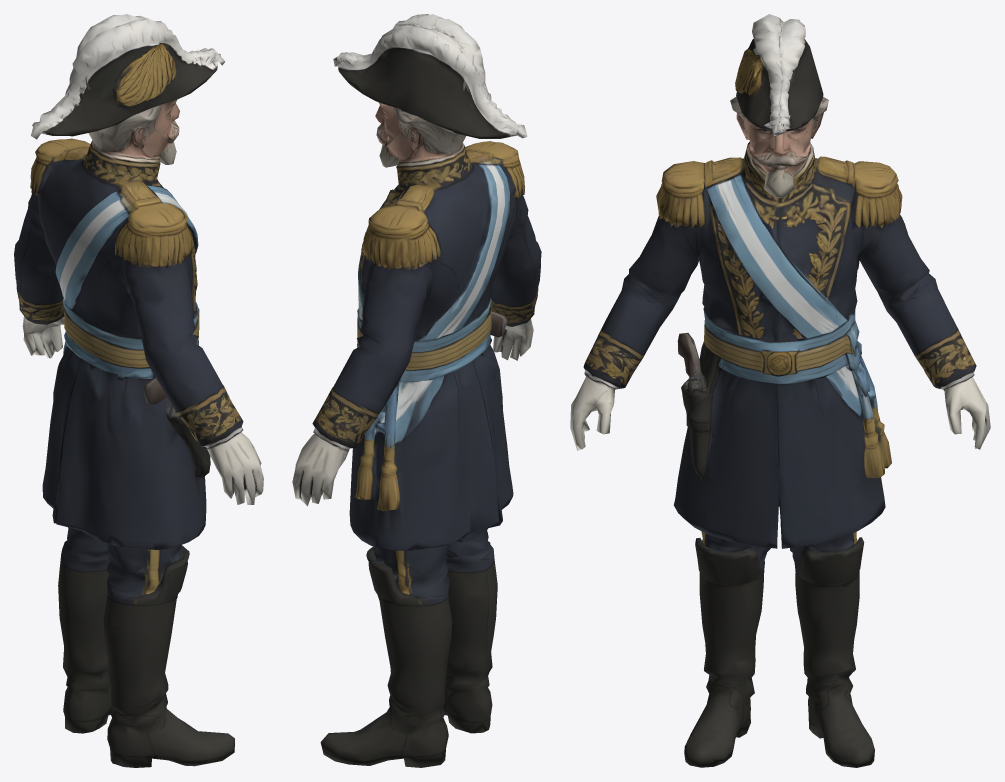
File: ea6d6acd-3a75-4cdc-9bd2-ef702f8c3527_model_url.glb
The picture shows the model from 3 angles, left to right: view 1: azimuth 30°, elevation 25°; view 2: azimuth 150°, elevation 25°; view 3: azimuth 270°, elevation 25°; orthographic projection.
Visible parts, largest first — view 1: tripo_node_ea6d6acd-3a75-4cdc-9bd2-ef702f8c3527; view 2: tripo_node_ea6d6acd-3a75-4cdc-9bd2-ef702f8c3527; view 3: tripo_node_ea6d6acd-3a75-4cdc-9bd2-ef702f8c3527.
Boxes of the visible parts, <box> form: tripo_node_ea6d6acd-3a75-4cdc-9bd2-ef702f8c3527: <box>14,14,263,767</box>; tripo_node_ea6d6acd-3a75-4cdc-9bd2-ef702f8c3527: <box>292,14,541,767</box>; tripo_node_ea6d6acd-3a75-4cdc-9bd2-ef702f8c3527: <box>570,14,990,767</box>.
Bounding box in the file's own units: 0.2803 × 1 × 0.5307.
Materials: 1 (1 with a texture image).
